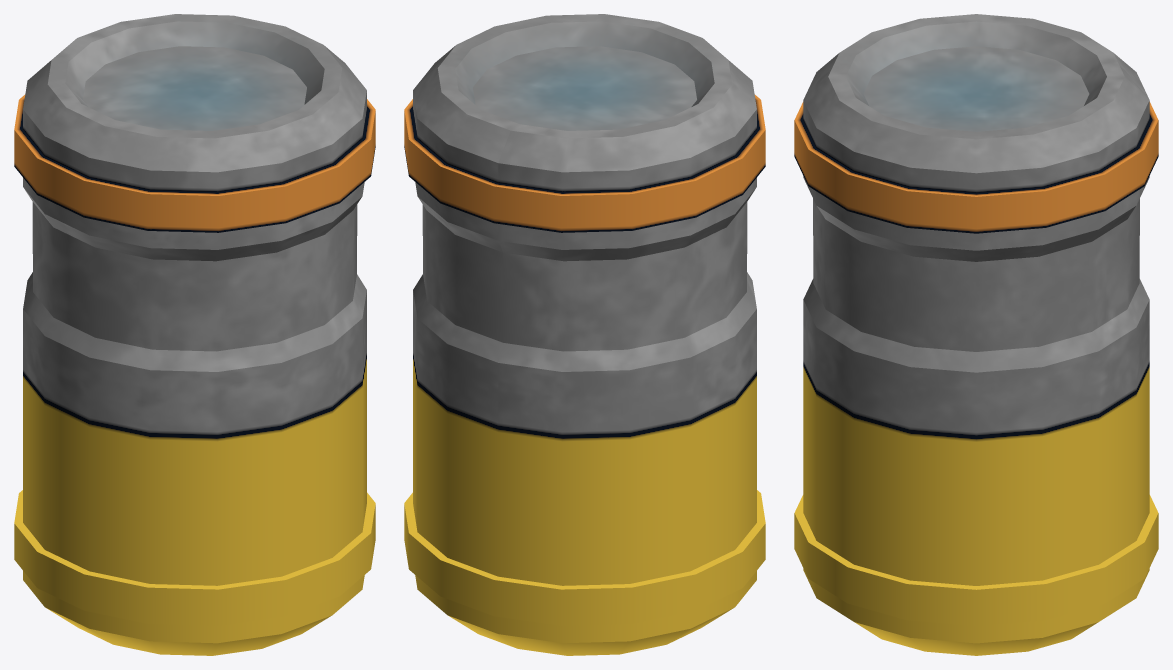
Rendered from barrell.fbx.
3 views of the same model, side by side, from view 1: azimuth 30°, elevation 25°; view 2: azimuth 150°, elevation 25°; view 3: azimuth 270°, elevation 25° (orthographic).
Parts seen in each view (by area): view 1: Barrell; view 2: Barrell; view 3: Barrell.
Part boxes in pixels (<box>): Barrell: <box>14,14,375,655</box>; Barrell: <box>404,14,765,655</box>; Barrell: <box>794,14,1158,655</box>.
Size of the model in its own units: 4.2 by 6.65 by 4.2.
